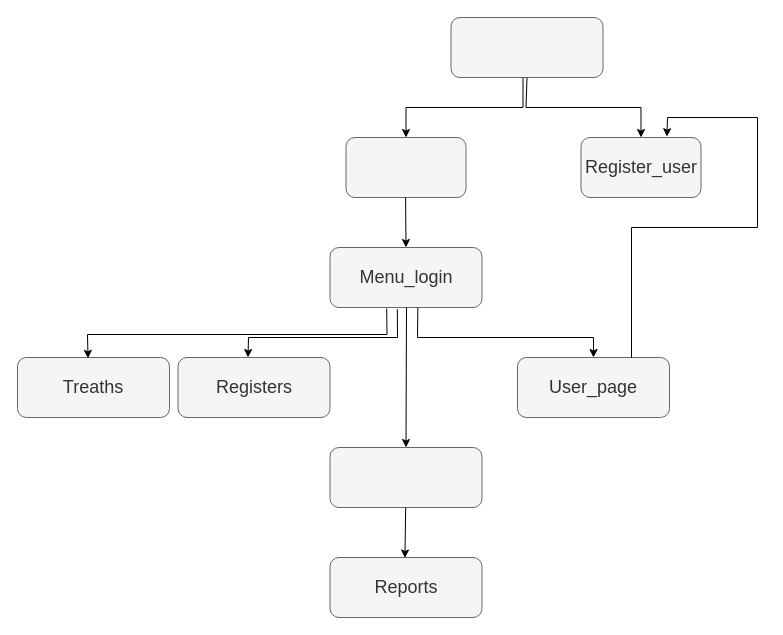
Some shapes in this 783 by 635 pixel diagram are drawn without their labels. The box of each missing label's shape, as (x1, y1, x2, y2) in pixels:
Hunter_website: (450, 16, 603, 78)
Login: (345, 136, 466, 198)
Menu_report: (329, 446, 482, 508)
